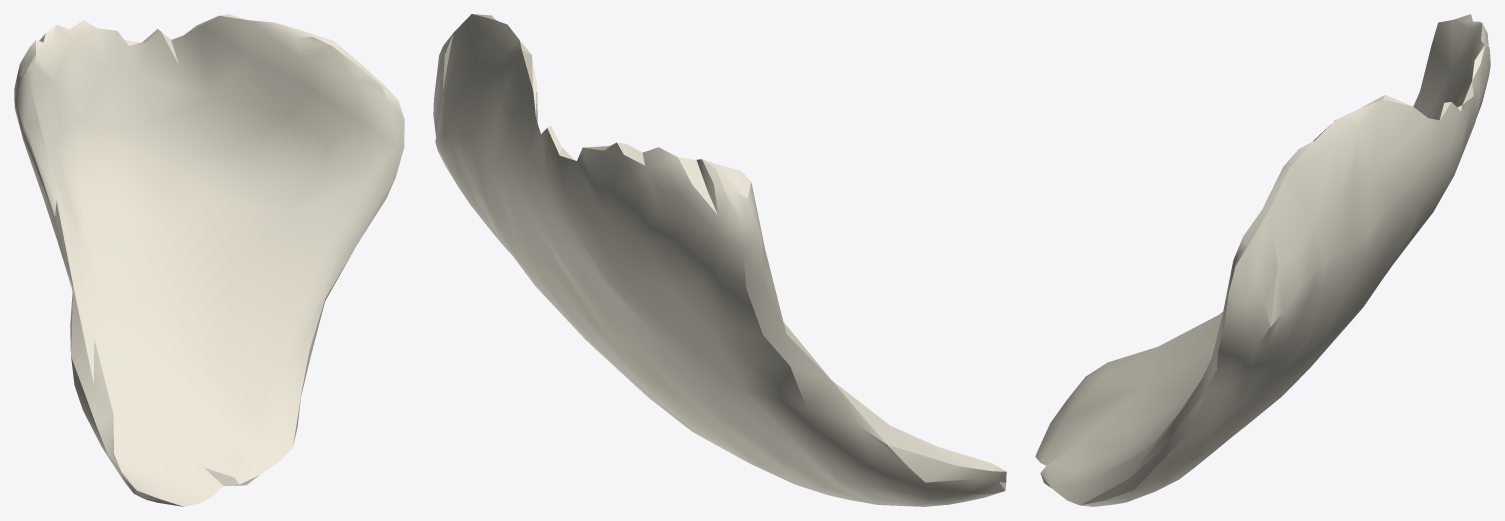
Rendered from fma321691-r_mm1472m.glb.
3 views of the same model, side by side, from view 1: azimuth 30°, elevation 25°; view 2: azimuth 150°, elevation 25°; view 3: azimuth 270°, elevation 25° (orthographic). The views are drawn at different scales.
Visible parts, largest first — view 1: FMA321691-R_MM1472M; view 2: FMA321691-R_MM1472M; view 3: FMA321691-R_MM1472M.
Part boxes in pixels (left/top/right/bottom): FMA321691-R_MM1472M: left=14, top=14, right=404, bottom=506; FMA321691-R_MM1472M: left=433, top=14, right=1006, bottom=506; FMA321691-R_MM1472M: left=1035, top=14, right=1490, bottom=506.
Bounding box in the file's own units: 0.0101 × 0.0101 × 0.00902.
